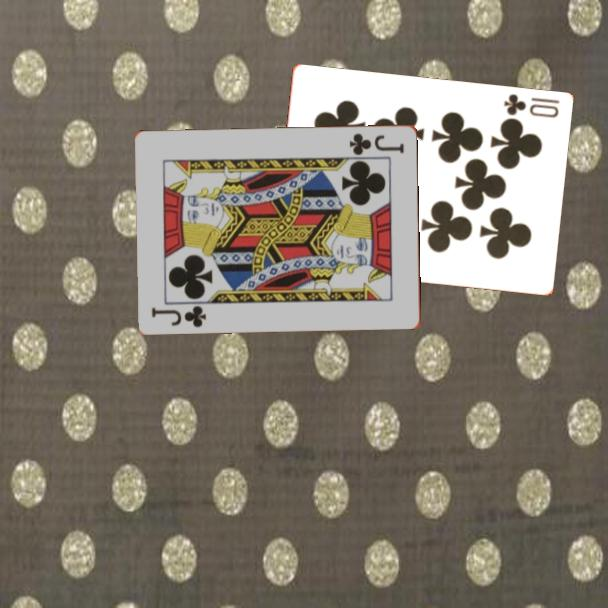c10: (500, 91, 562, 121)
c11: (148, 302, 209, 330), (346, 130, 407, 157)
